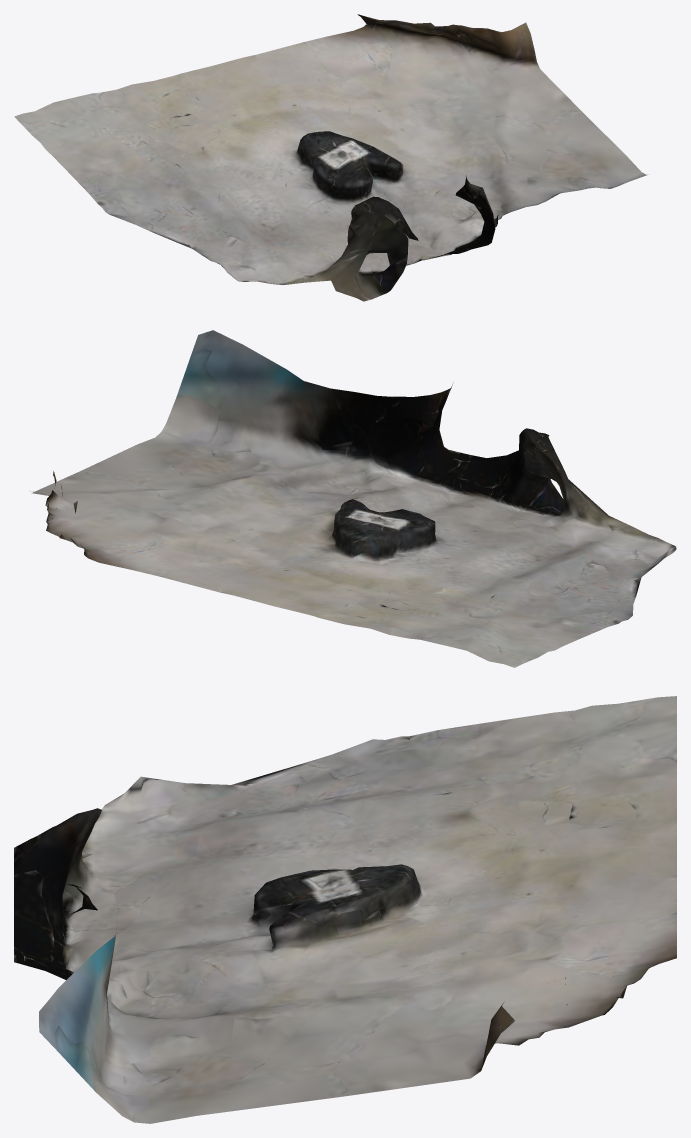
File: hall.glb
The picture shows the model from 3 angles, top to bottom: view 1: azimuth 30°, elevation 25°; view 2: azimuth 150°, elevation 25°; view 3: azimuth 270°, elevation 25°; orthographic projection. The views are drawn at different scales.
Bounding box in the file's own units: 2.3 × 0.4032 × 1.81.
Materials: 1 (1 with a texture image).
